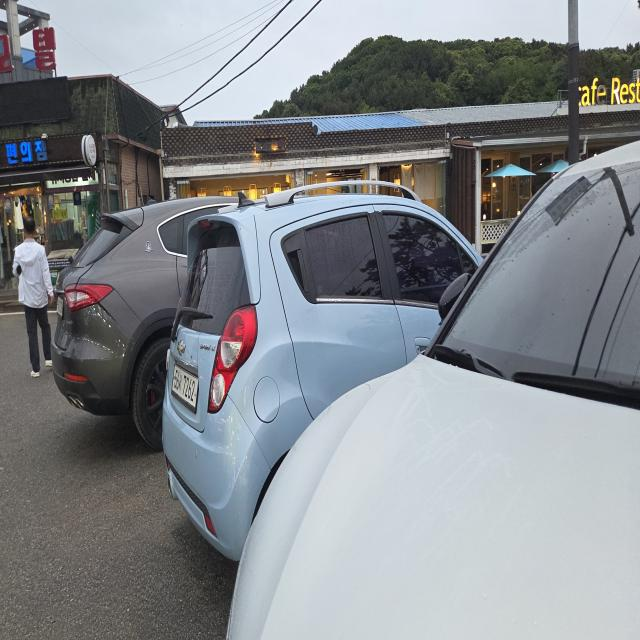car: (217, 111, 640, 640), (148, 169, 504, 587), (52, 176, 333, 445)
